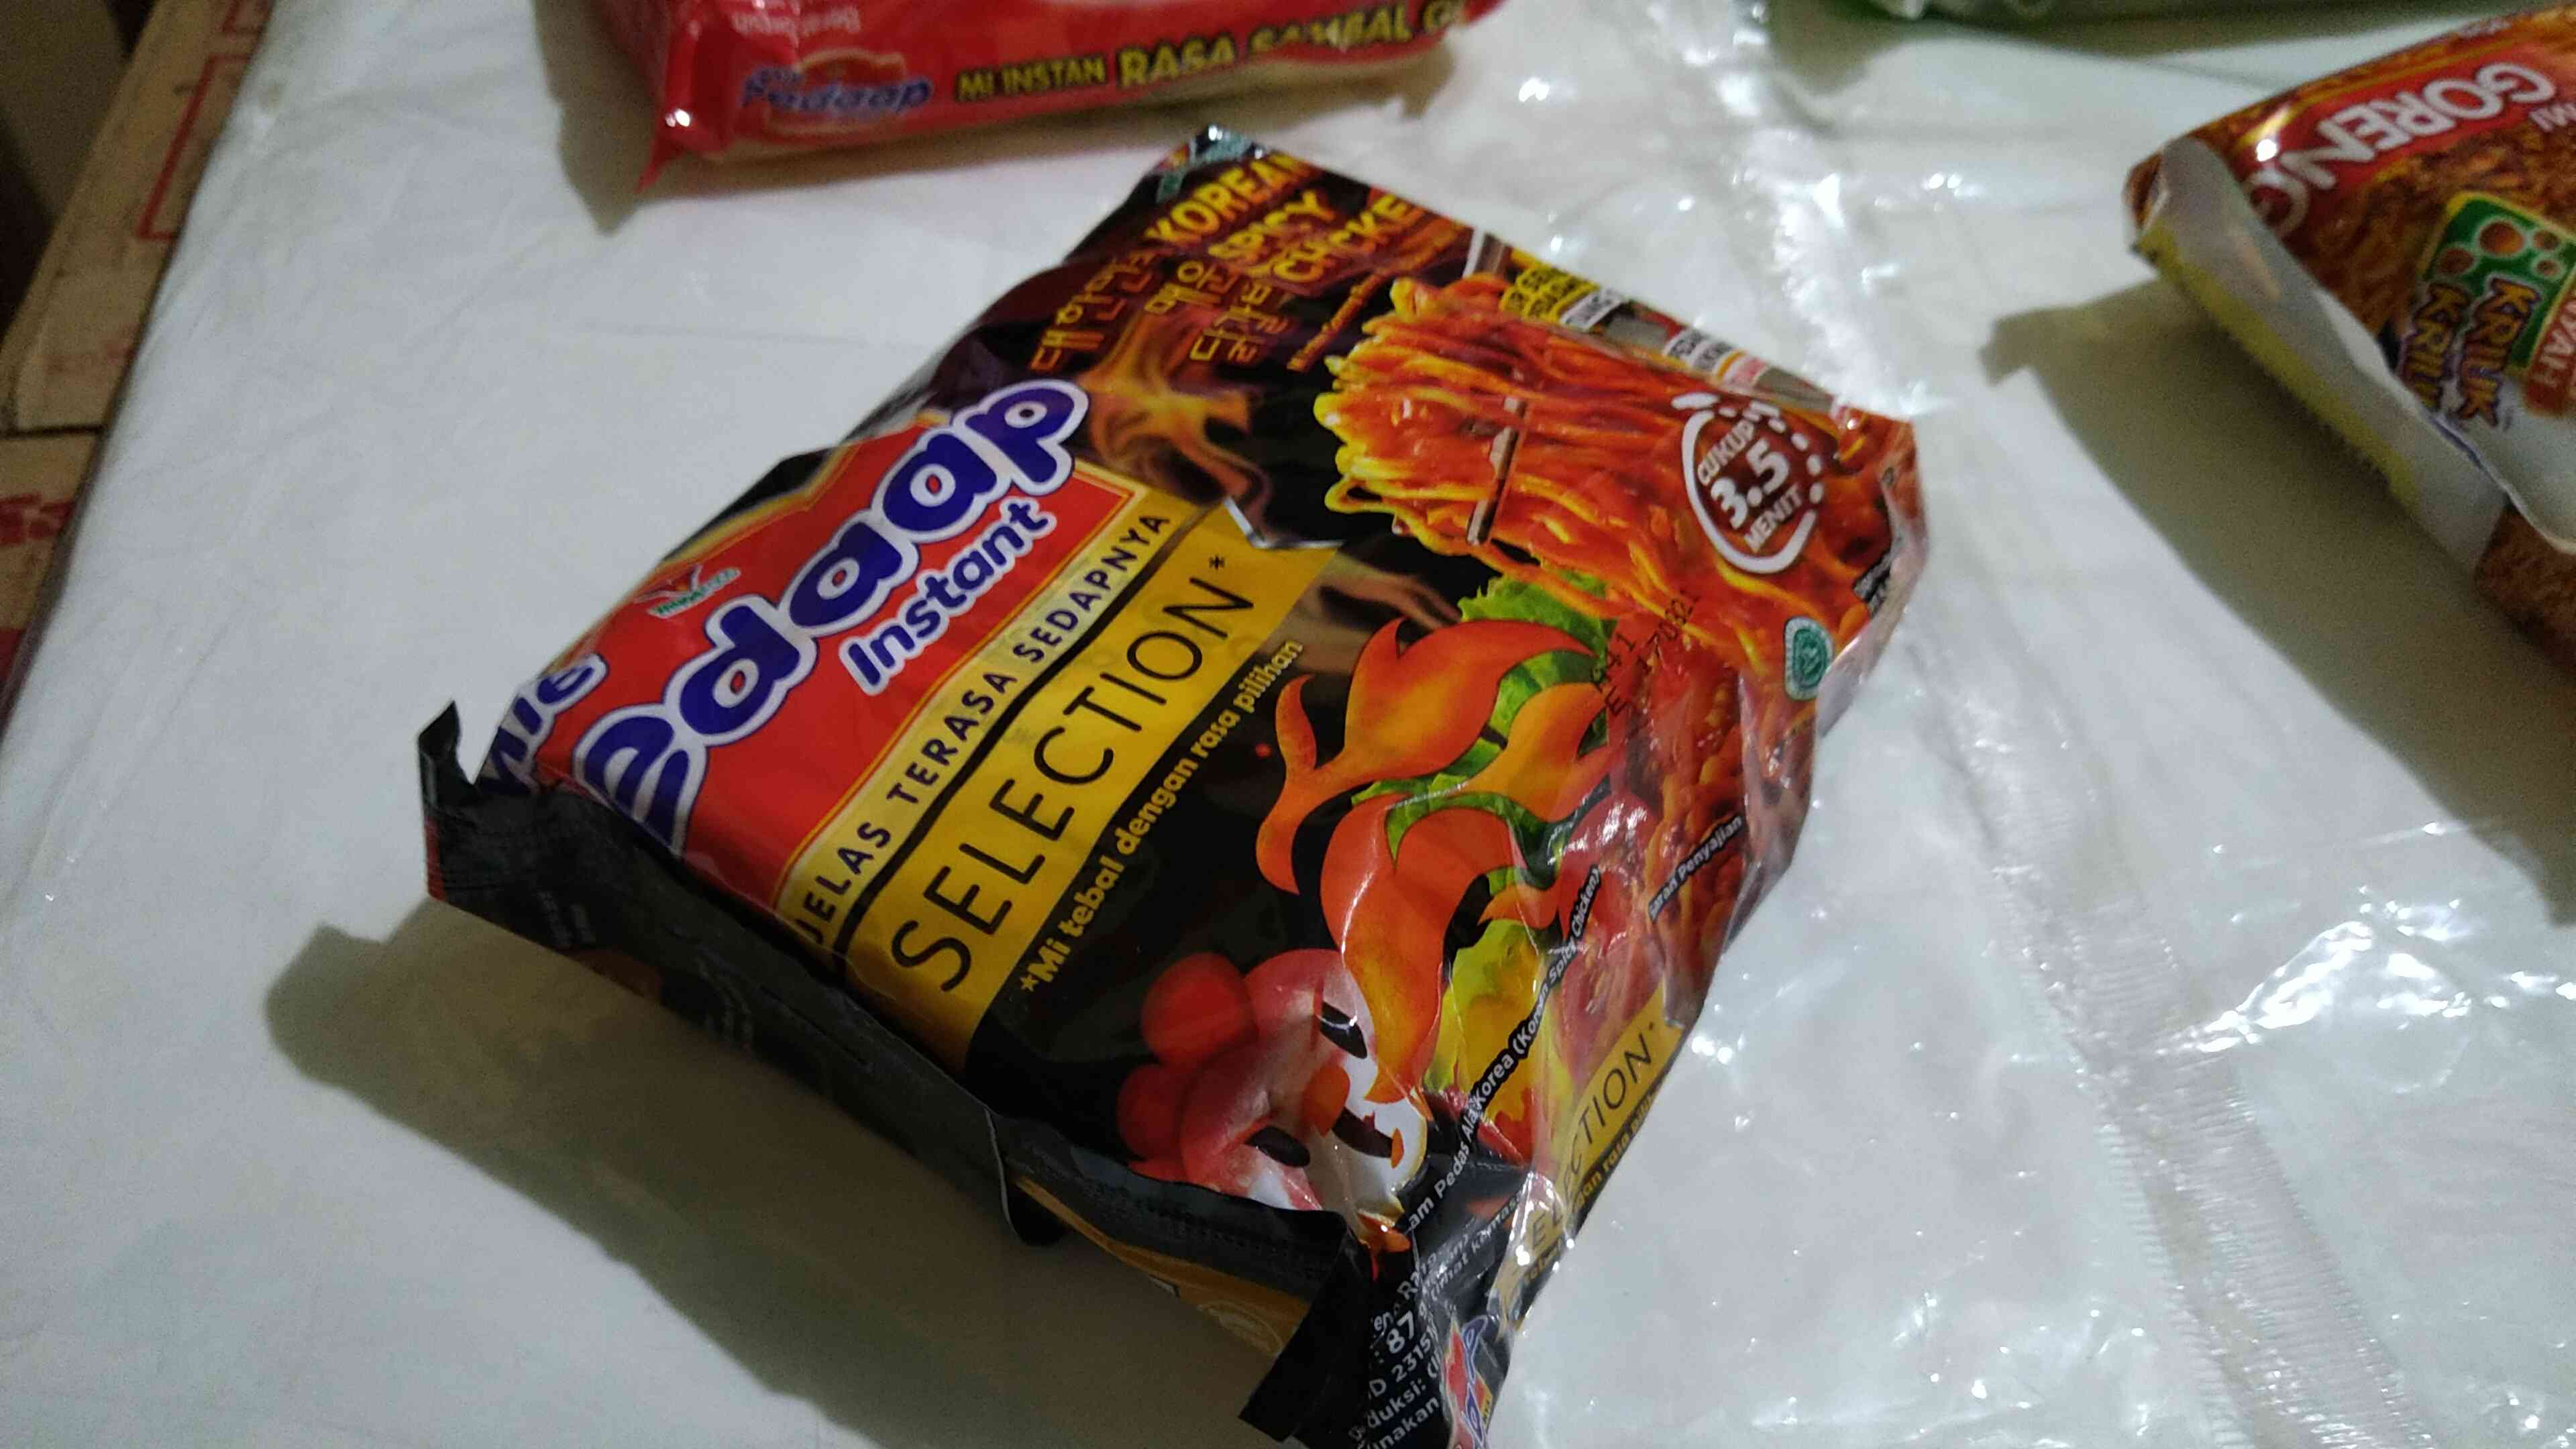sedaap spicy: (421, 159, 1881, 1375)
